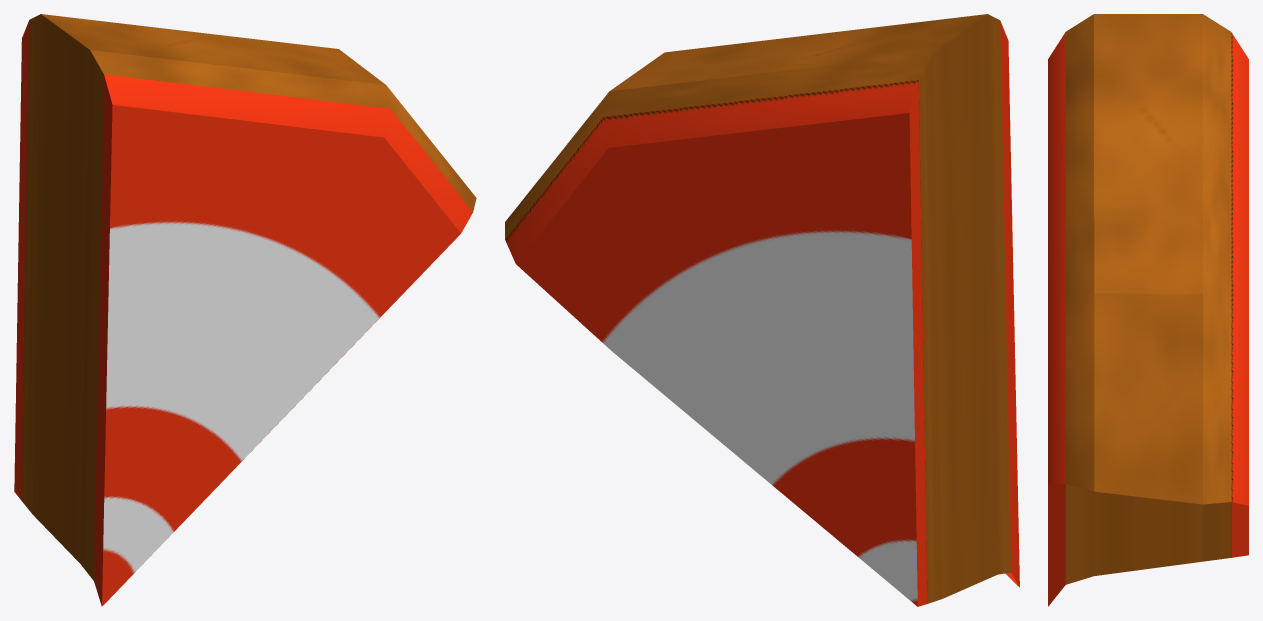
Rendered from brokenAim3.fbx.
The picture shows the model from 3 angles, left to right: view 1: azimuth 30°, elevation 25°; view 2: azimuth 150°, elevation 25°; view 3: azimuth 270°, elevation 25°; orthographic projection. The views are drawn at different scales.
Visible parts, largest first — view 1: Object003; view 2: Object003; view 3: Object003.
Part boxes in pixels (<box>): Object003: <box>14,14,476,606</box>; Object003: <box>505,14,1019,606</box>; Object003: <box>1048,14,1248,606</box>.
Bounding box in the file's own units: 11.16 × 14.28 × 4.35.
